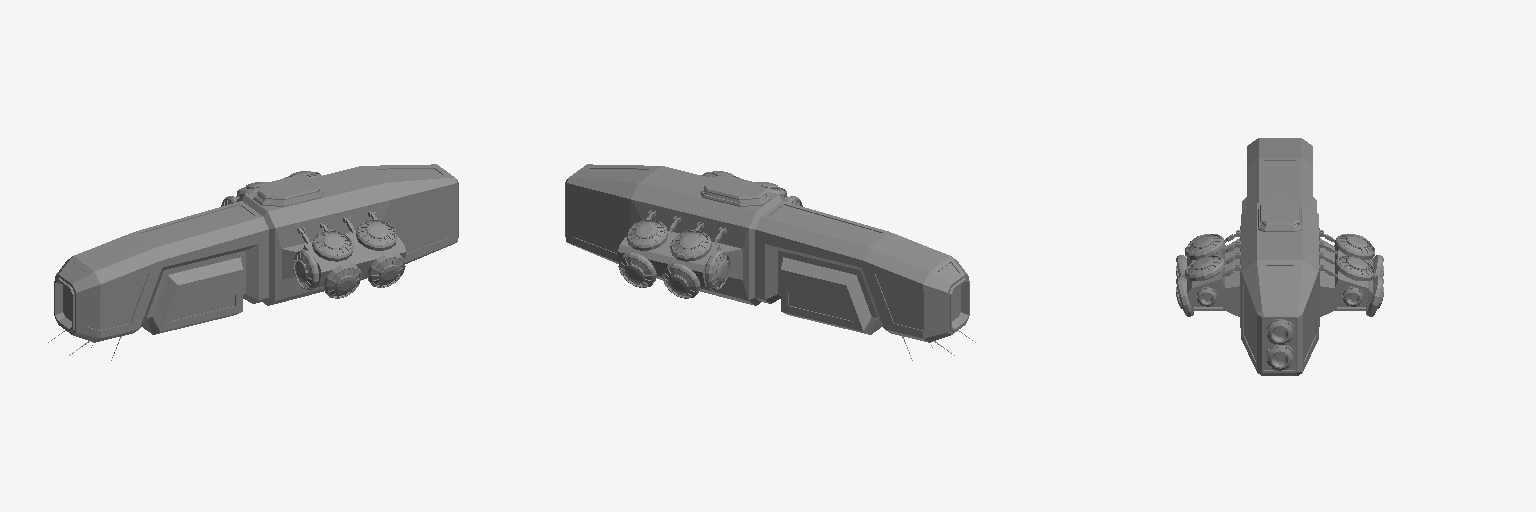
Rendered from ghost_obj.obj.
3 views of the same model, side by side, from view 1: azimuth 30°, elevation 25°; view 2: azimuth 150°, elevation 25°; view 3: azimuth 270°, elevation 25° (orthographic).
Parts seen in each view (by area): view 1: shiphull; view 2: shiphull; view 3: shiphull.
Part boxes in pixels (bbox=[...]): shiphull: bbox=[48, 164, 458, 360]; shiphull: bbox=[565, 164, 975, 360]; shiphull: bbox=[1176, 138, 1383, 375].
Bounding box in the file's own units: 438 × 130 × 200.